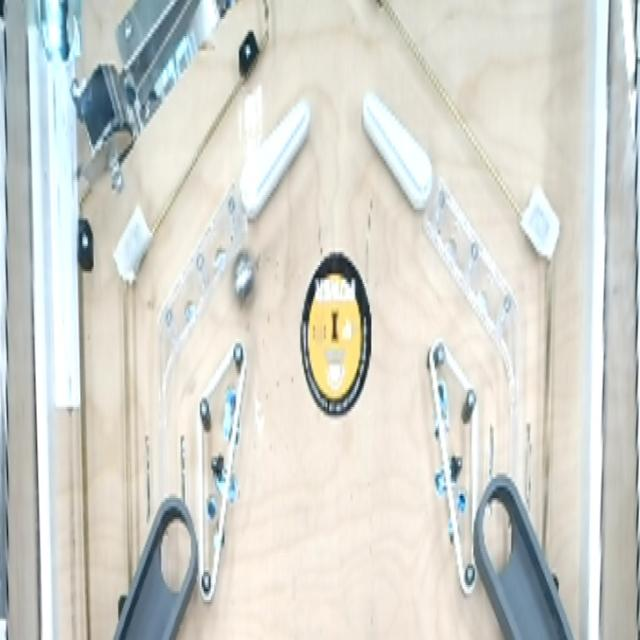ball: (230, 245, 258, 312)
flipper-left: (360, 90, 437, 220)
flipper-right: (239, 90, 313, 237)
